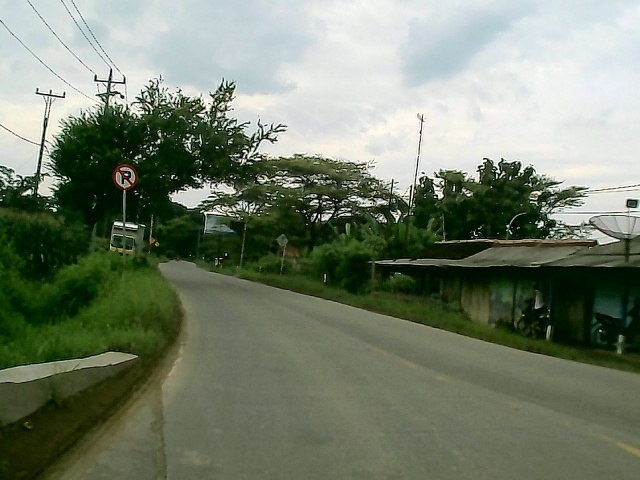Dilarang parkir: (111, 163, 139, 193)
